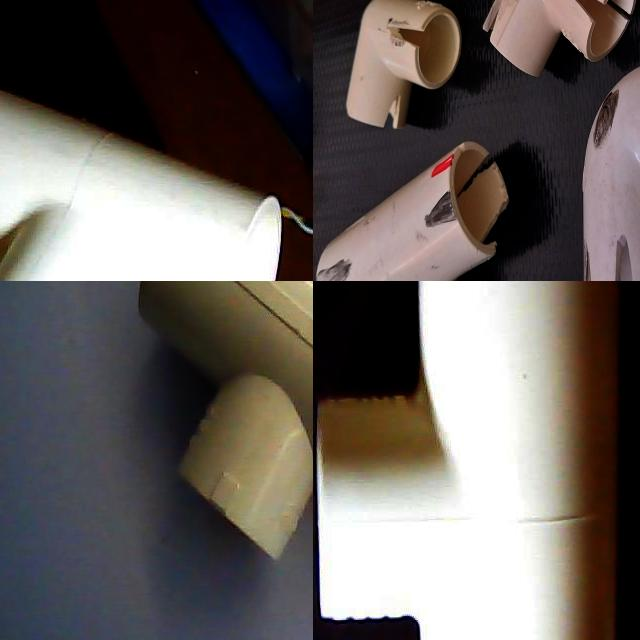Defective: (576, 61, 632, 119), (499, 98, 540, 175), (400, 147, 466, 194), (313, 178, 340, 203), (419, 258, 442, 281)
L Joint: (313, 130, 478, 281)
T Joint: (315, 281, 623, 640), (0, 87, 283, 281), (137, 281, 313, 560), (457, 0, 633, 213)
